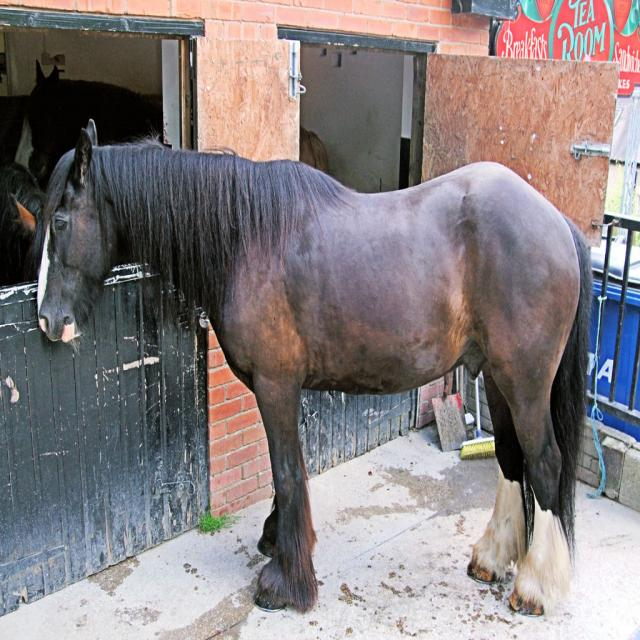Horse: (29, 116, 594, 621)
